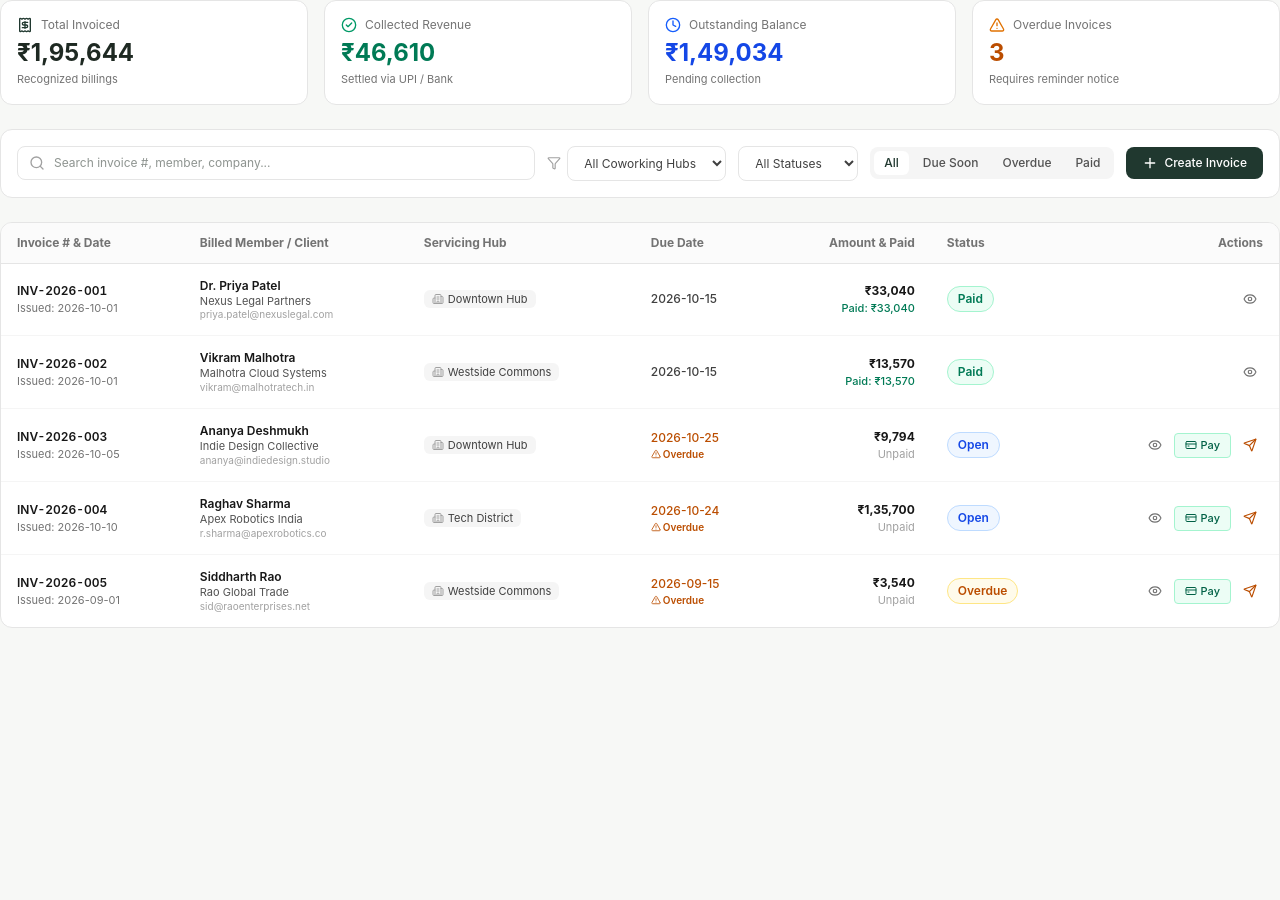
Test case: InvoicesDirectory Component › opens create invoice modal when clicking Create Invoice button
This screenshot has width=1280, height=900.
Click the button "Create Invoice": (1195, 163) 1126,147 -> 1263,179
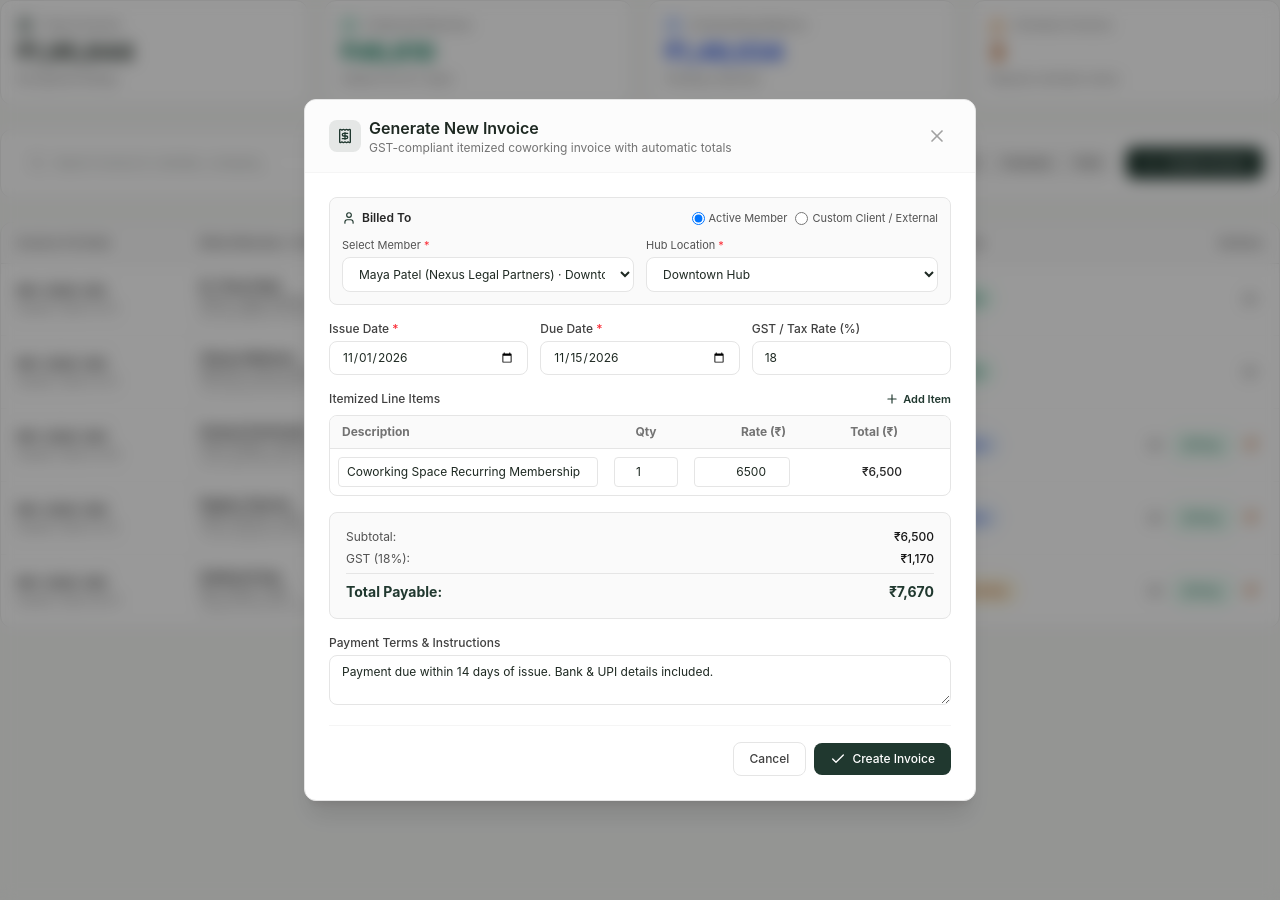
Result: the heading "Generate New Invoice" is shown at 369,118 -> 539,138
